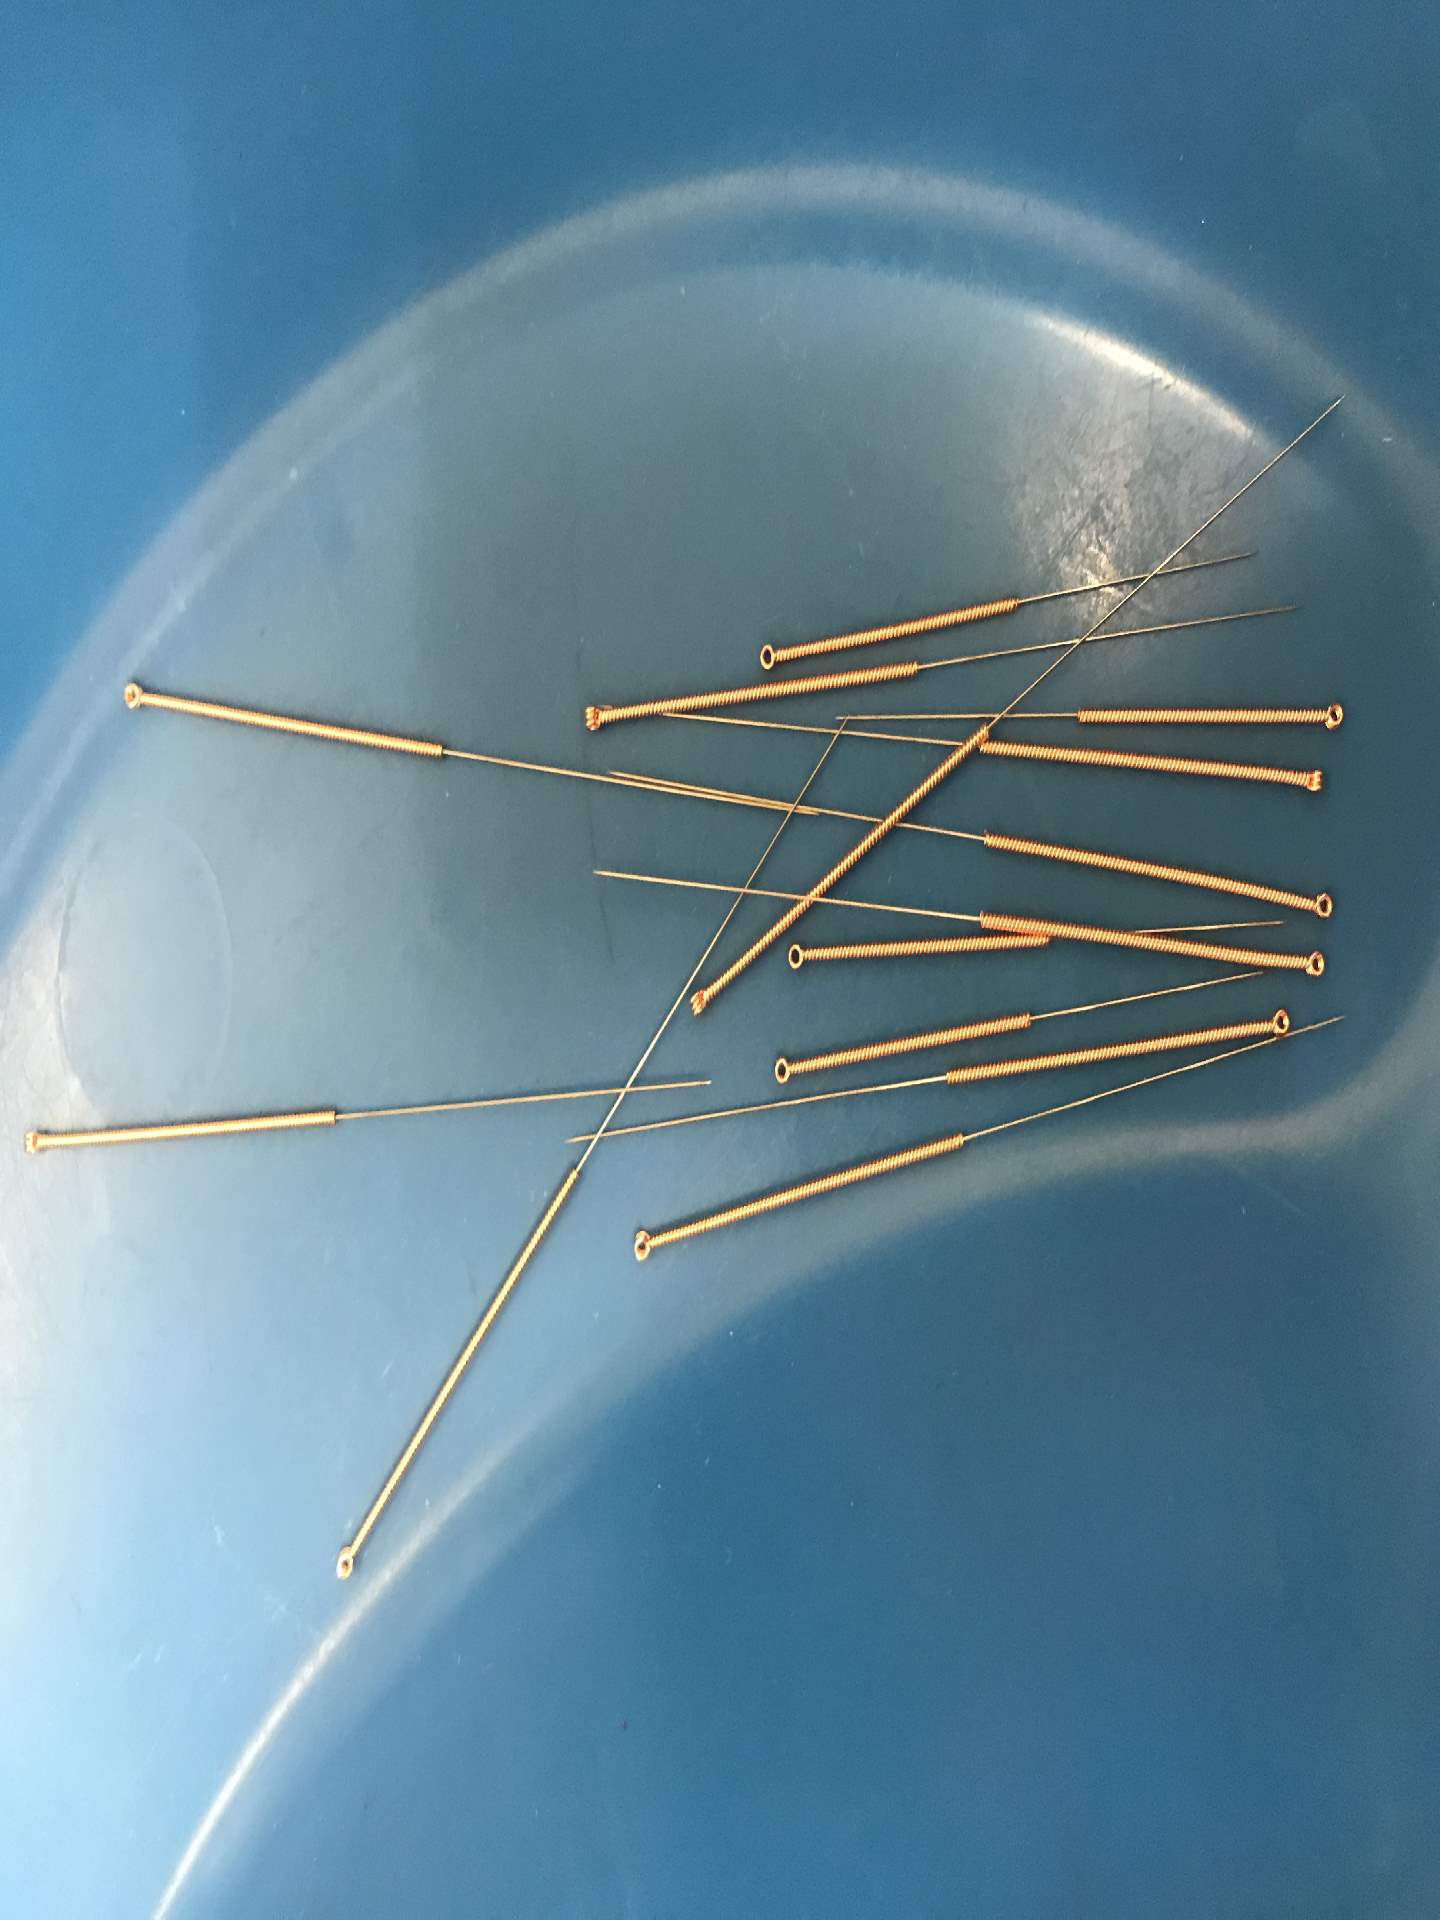needle: (625, 1223, 663, 1265), (328, 1539, 362, 1584), (576, 697, 611, 739), (1304, 886, 1340, 924), (681, 983, 715, 1022), (115, 676, 150, 714), (750, 636, 785, 674), (15, 1120, 48, 1160), (1262, 1002, 1296, 1039), (1293, 760, 1328, 797), (1296, 945, 1330, 983), (1317, 695, 1349, 735), (767, 1051, 799, 1089), (781, 937, 812, 975)
